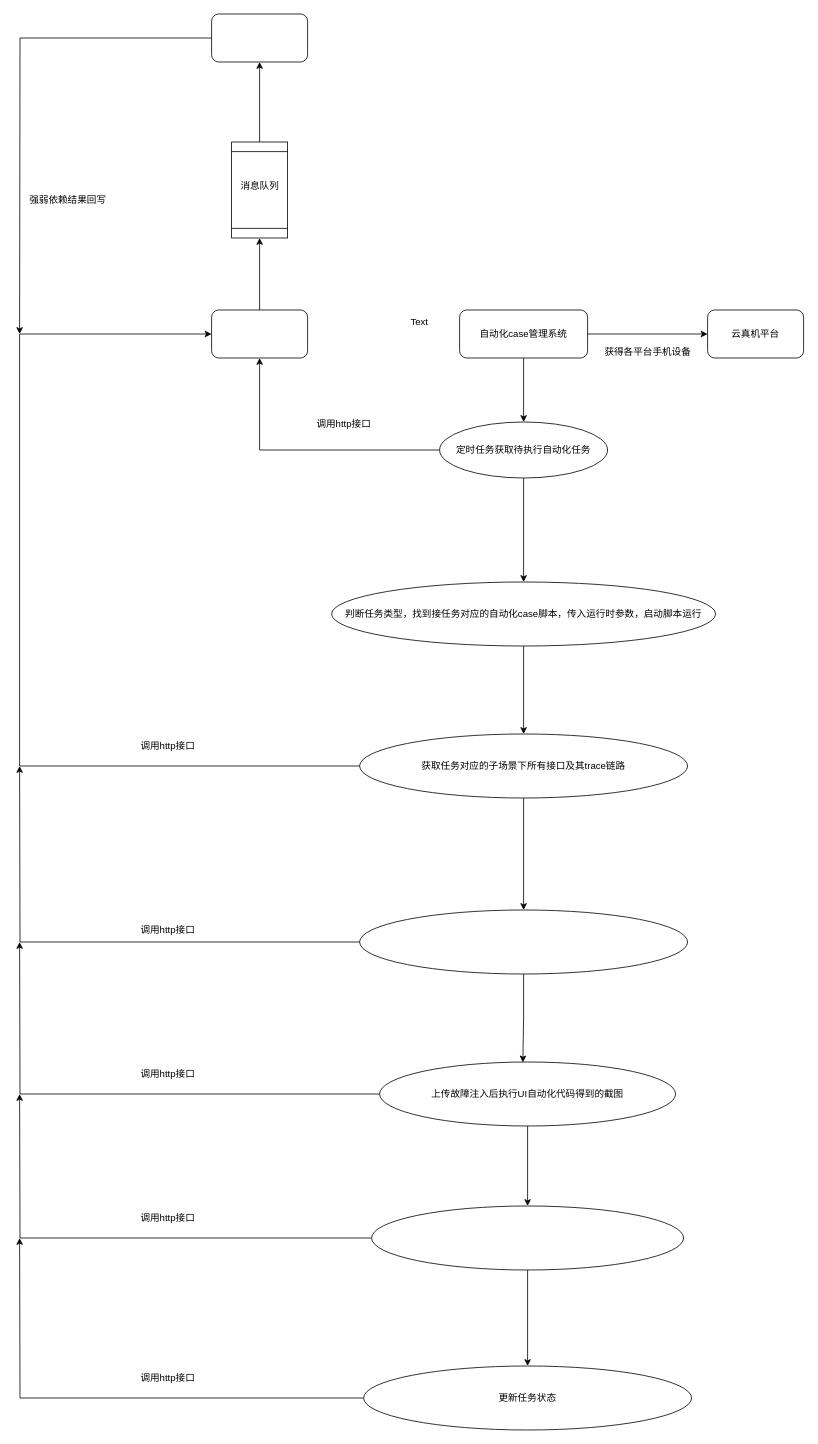
Image size: 818x1444. Some labels were removed from this diagram. The centre of each missing label's shape, as x and y in pixels:
advisor: the point at 259,333
AI: the point at 259,37
上报进度与执行日志: the point at 527,1237
遍历所有接口下的trace一次注入故障，并执行UI自动化代码: the point at 523,941
